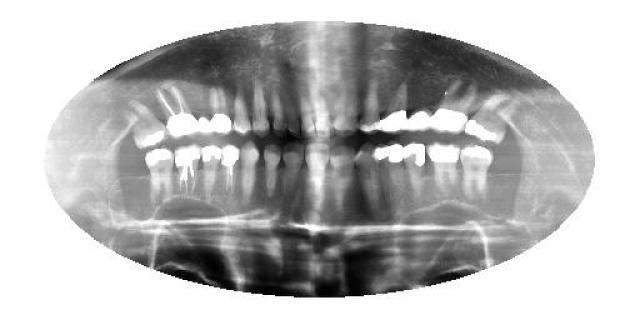Fillings: (467, 91, 522, 145), (116, 98, 172, 150), (430, 76, 476, 136), (378, 70, 408, 136), (458, 142, 492, 198), (425, 141, 460, 191), (145, 148, 176, 204), (377, 141, 402, 200), (402, 141, 427, 194), (199, 144, 221, 204), (210, 82, 232, 136), (407, 106, 432, 134), (196, 114, 212, 136), (464, 89, 465, 91)
Implant: (156, 84, 199, 138), (174, 142, 200, 198), (220, 144, 240, 198)
